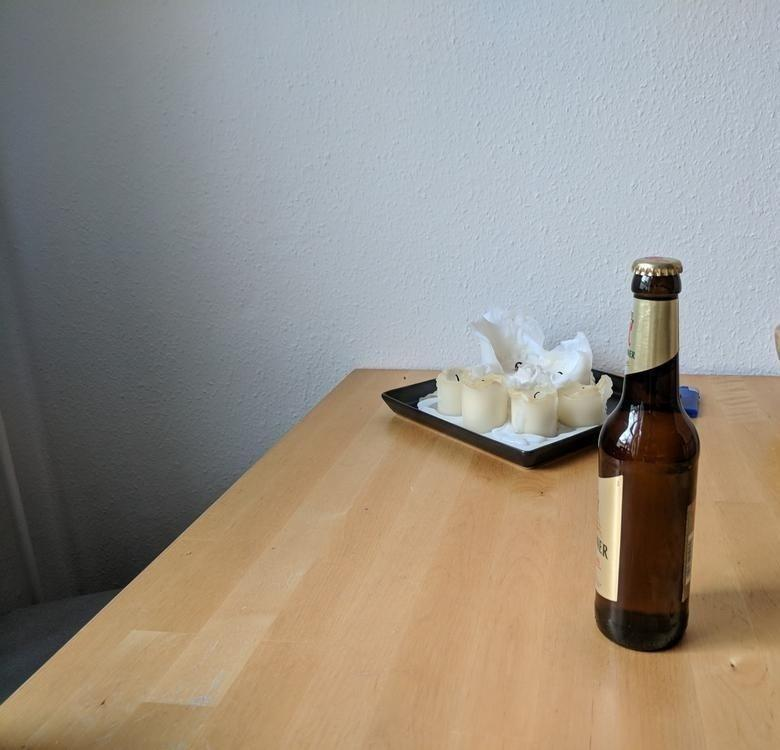bottle-glass: (592, 256, 701, 653)
